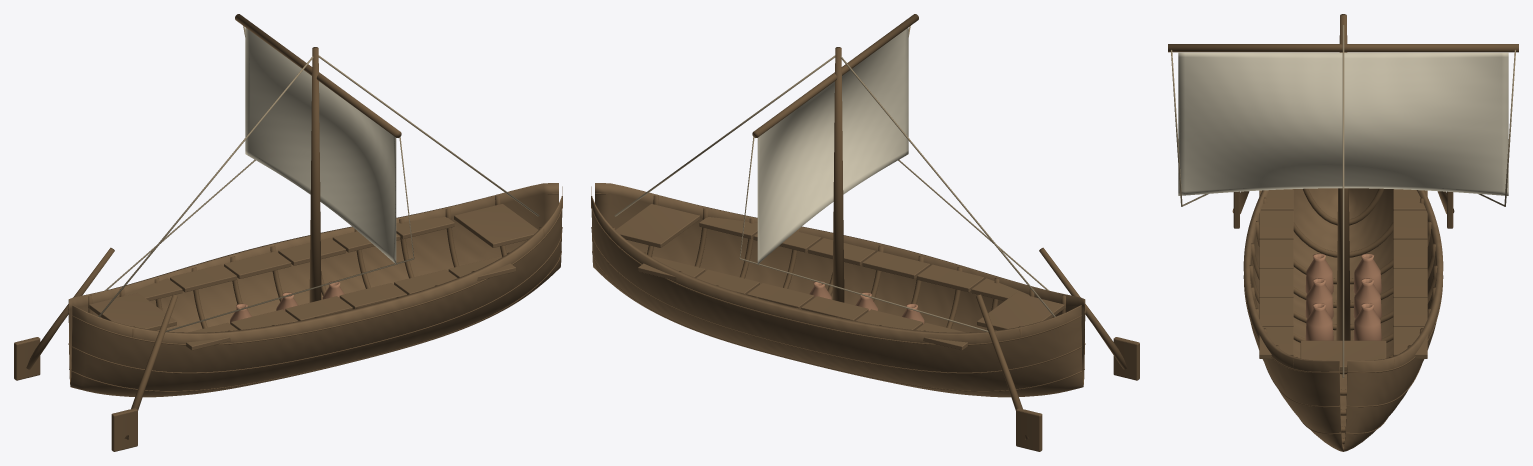
Rendered from paul-ship.glb.
3 views of the same model, side by side, from view 1: azimuth 30°, elevation 25°; view 2: azimuth 150°, elevation 25°; view 3: azimuth 270°, elevation 25° (orthographic). The views are drawn at different scales.
Parts seen in each view (by area): view 1: paul-ship-paul-ship-timber, paul-ship-paul-uninscribed-sail, paul-ship-paul-ship-timber.001, paul-ship-paul-ship-rib-wood, paul-ship-paul-rigging-rope, paul-ship-earthenware; view 2: paul-ship-paul-ship-timber, paul-ship-paul-uninscribed-sail, paul-ship-paul-ship-timber.001, paul-ship-paul-ship-rib-wood, paul-ship-paul-rigging-rope, paul-ship-earthenware; view 3: paul-ship-paul-uninscribed-sail, paul-ship-paul-ship-timber, paul-ship-paul-ship-timber.001, paul-ship-paul-ship-rib-wood, paul-ship-earthenware, paul-ship-paul-rigging-rope.
Part boxes in pixels (x1,y1,x2,y2): paul-ship-paul-ship-timber: (68,183,562,397); paul-ship-paul-uninscribed-sail: (245,27,396,264); paul-ship-paul-ship-timber.001: (89,204,538,350); paul-ship-paul-ship-rib-wood: (14,14,562,451); paul-ship-paul-rigging-rope: (98,26,539,332); paul-ship-earthenware: (230,281,344,323); paul-ship-paul-ship-timber: (591,183,1085,397); paul-ship-paul-uninscribed-sail: (757,27,908,264); paul-ship-paul-ship-timber.001: (615,204,1064,350); paul-ship-paul-ship-rib-wood: (591,14,1139,451); paul-ship-paul-rigging-rope: (614,26,1055,332); paul-ship-earthenware: (809,281,924,323); paul-ship-paul-uninscribed-sail: (1178,52,1508,195); paul-ship-paul-ship-timber: (1243,188,1443,451); paul-ship-paul-ship-timber.001: (1259,189,1427,371); paul-ship-paul-ship-rib-wood: (1168,14,1518,444); paul-ship-earthenware: (1305,253,1381,340); paul-ship-paul-rigging-rope: (1171,25,1515,377).
Size of the model in its own units: 1.83 by 1.1 by 1.02.
